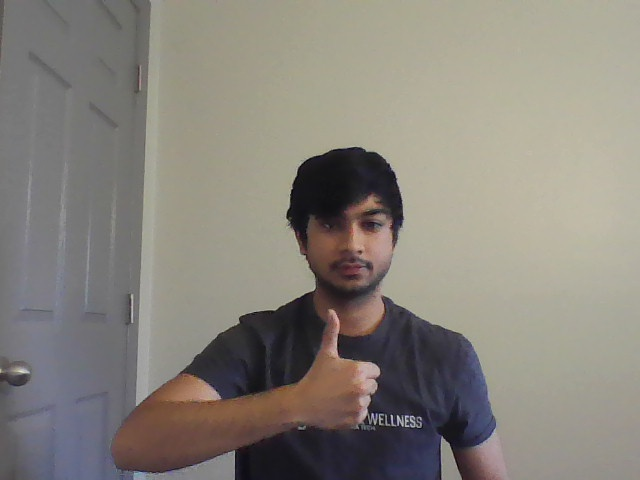confirm: (295, 305, 387, 436)
